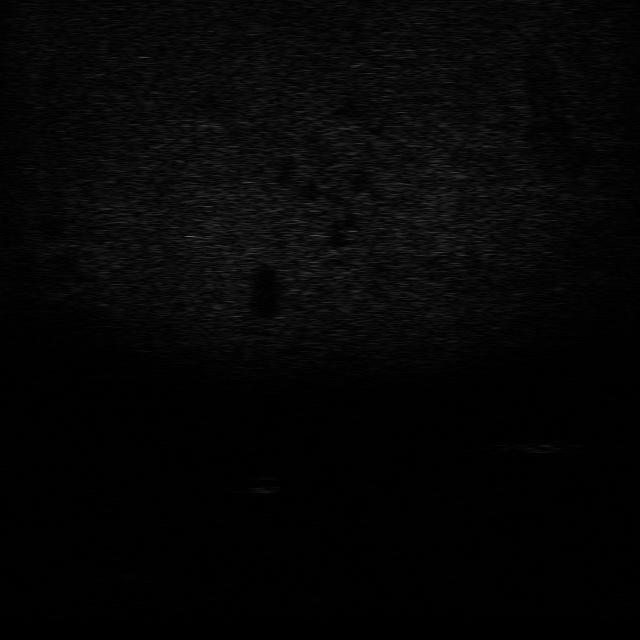ball: (235, 473, 283, 497)
human body: (487, 432, 585, 457)
